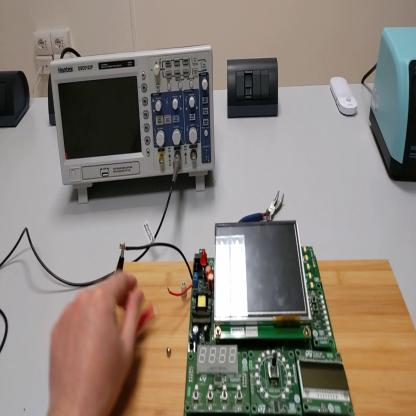hand: (47, 270, 152, 415)
low voltage board: (119, 220, 356, 415)
oscilloscope: (52, 45, 214, 207)
pliers: (239, 190, 287, 224)
socket: (1, 70, 31, 131), (47, 73, 58, 128)
welder station: (369, 25, 416, 184)
working area: (118, 258, 416, 415)
